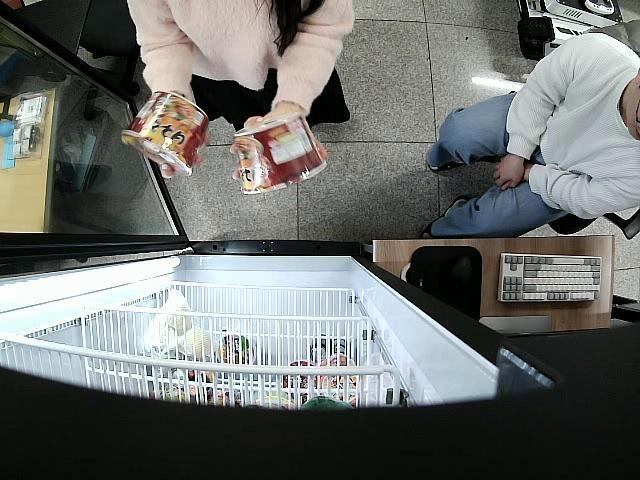05_nuguri_L: (120, 89, 210, 178), (235, 113, 326, 195)
